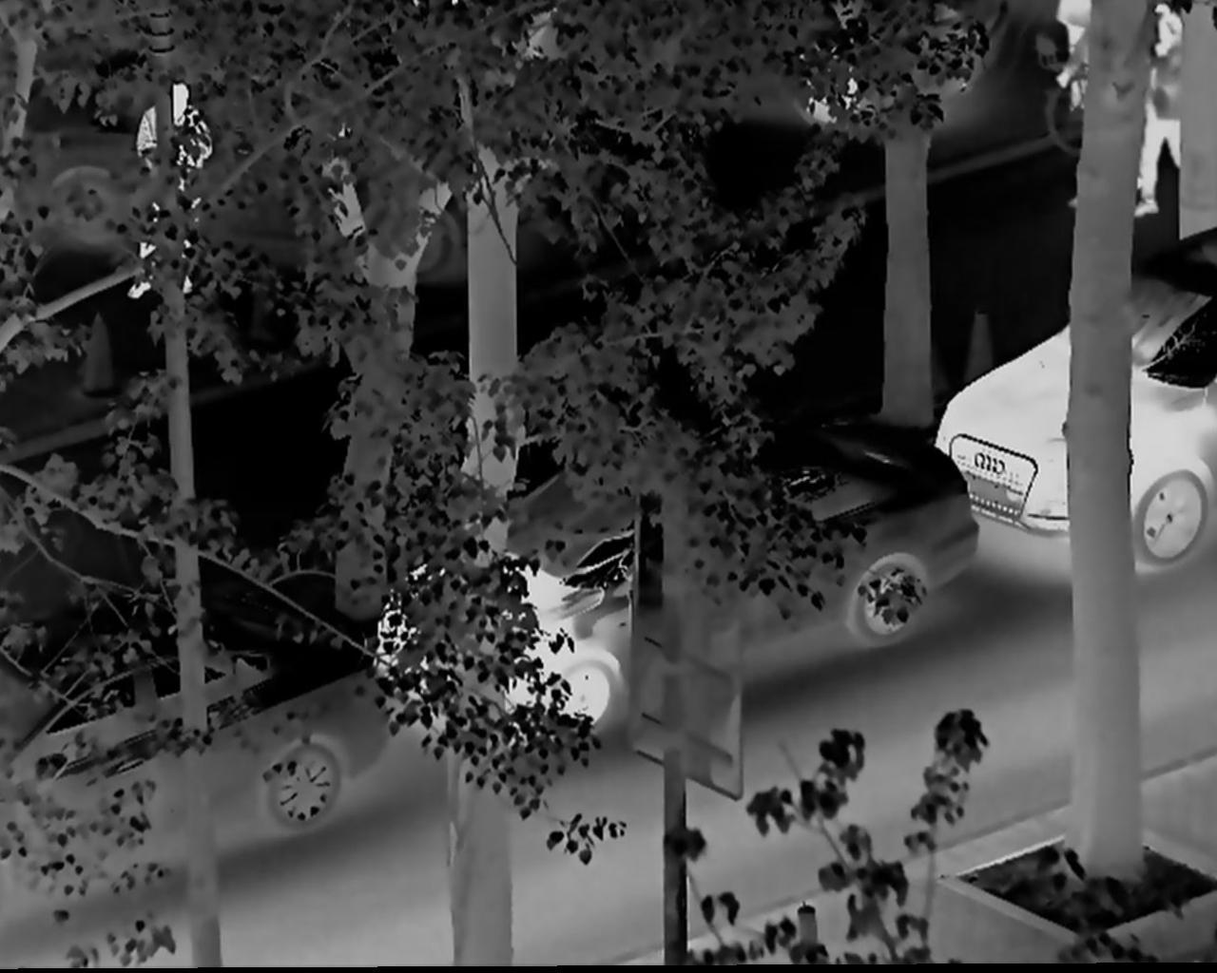person: (137, 87, 217, 304), (1139, 11, 1195, 223)
